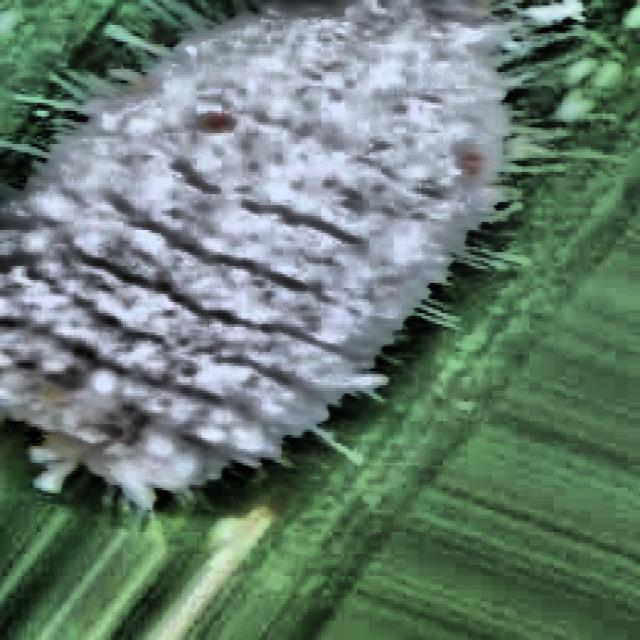Mealy-bug: (0, 0, 640, 571)
